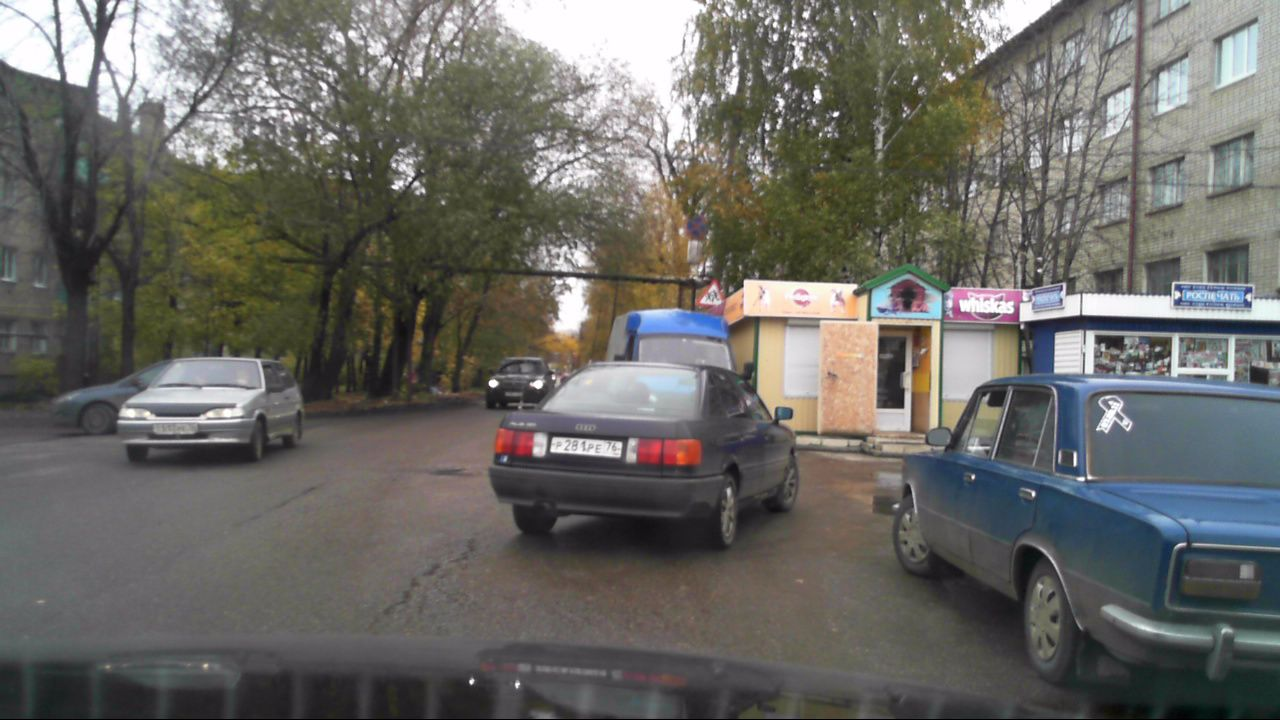No Parking: (683, 216, 709, 241)
